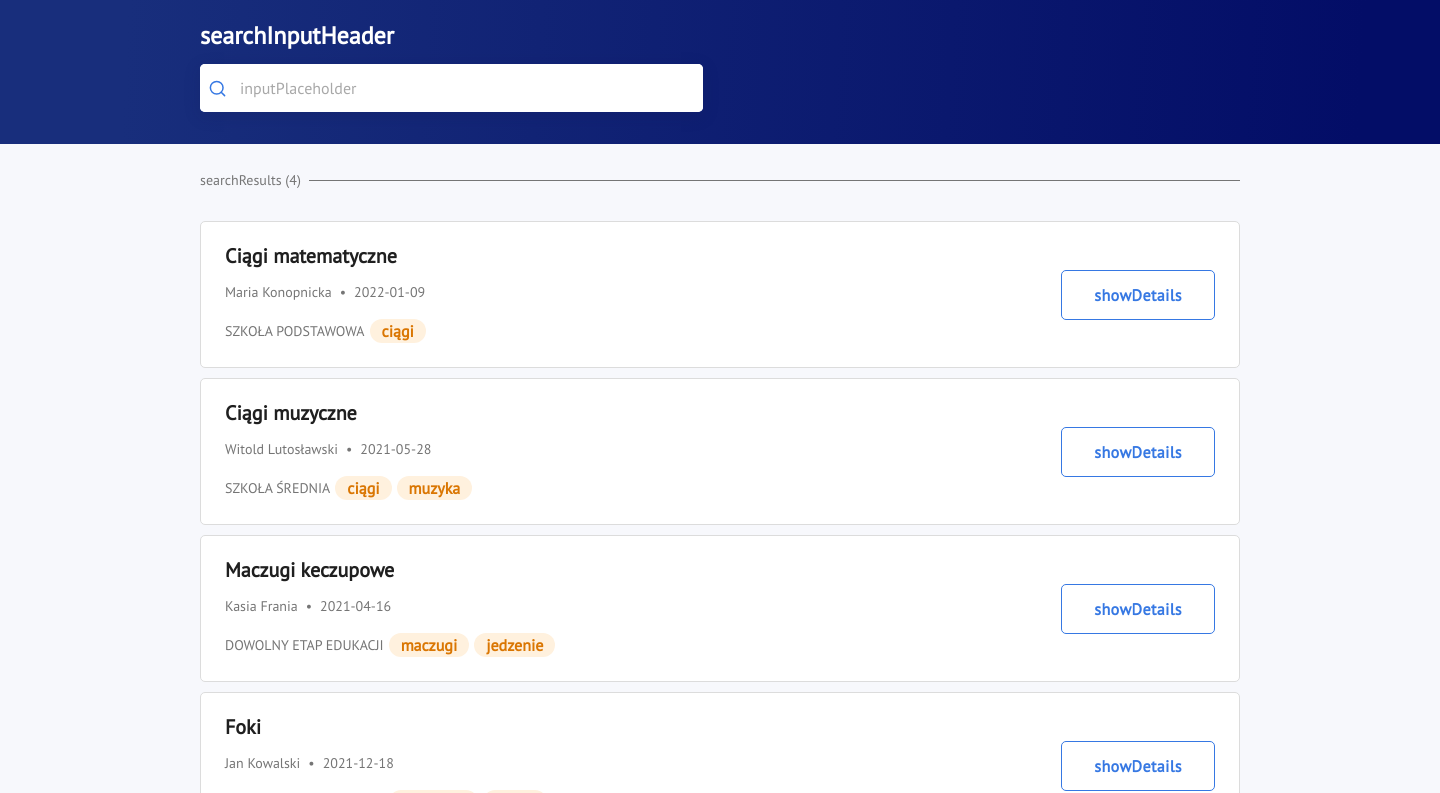
Test: <ProblemsPage/> › should display problem suggestion
The image size is (1440, 793).
Type "F" into the field labelled "inputPlaceholder" at [452, 88], box [200,64,703,112]
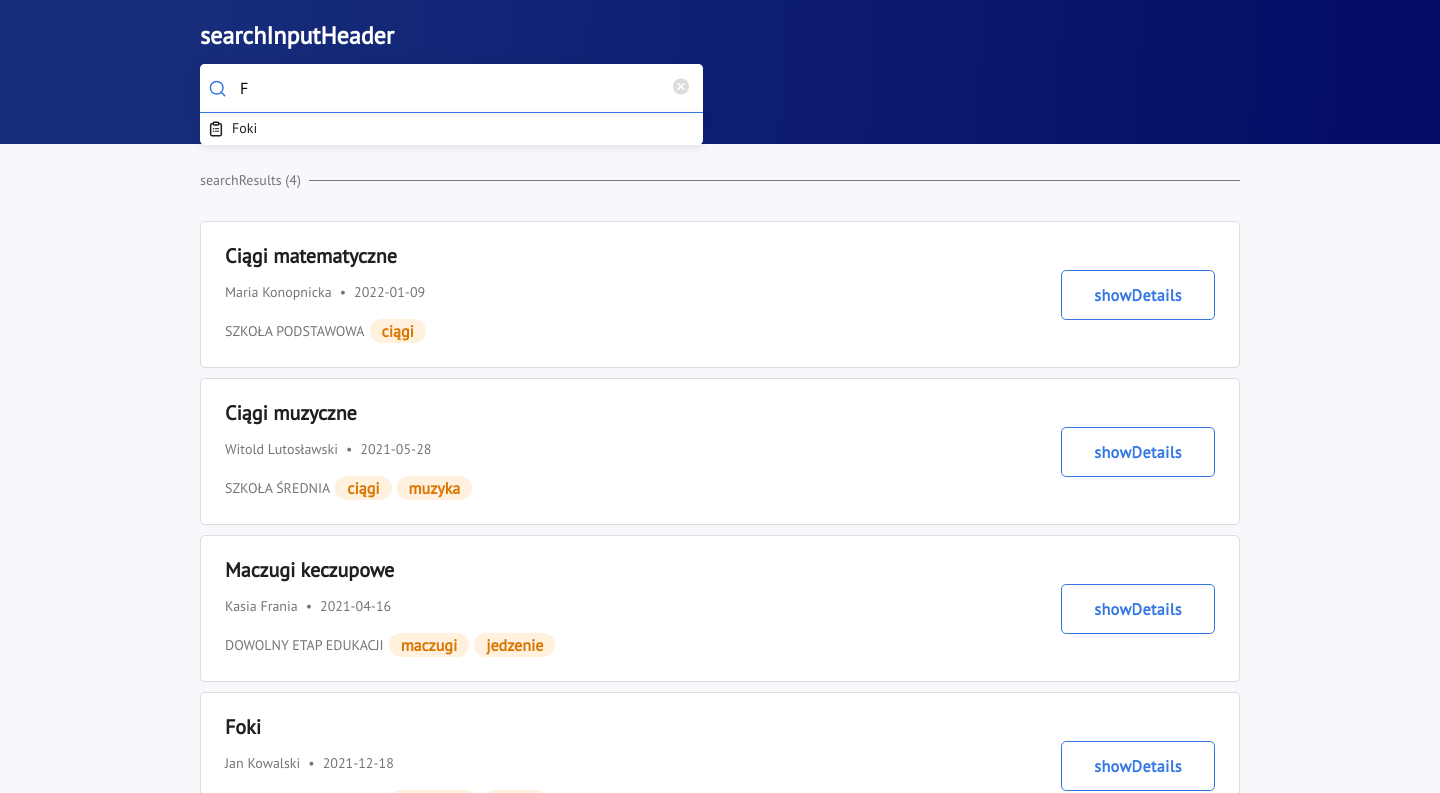
Expected: the list item reads "Foki", [208,121,695,137]
